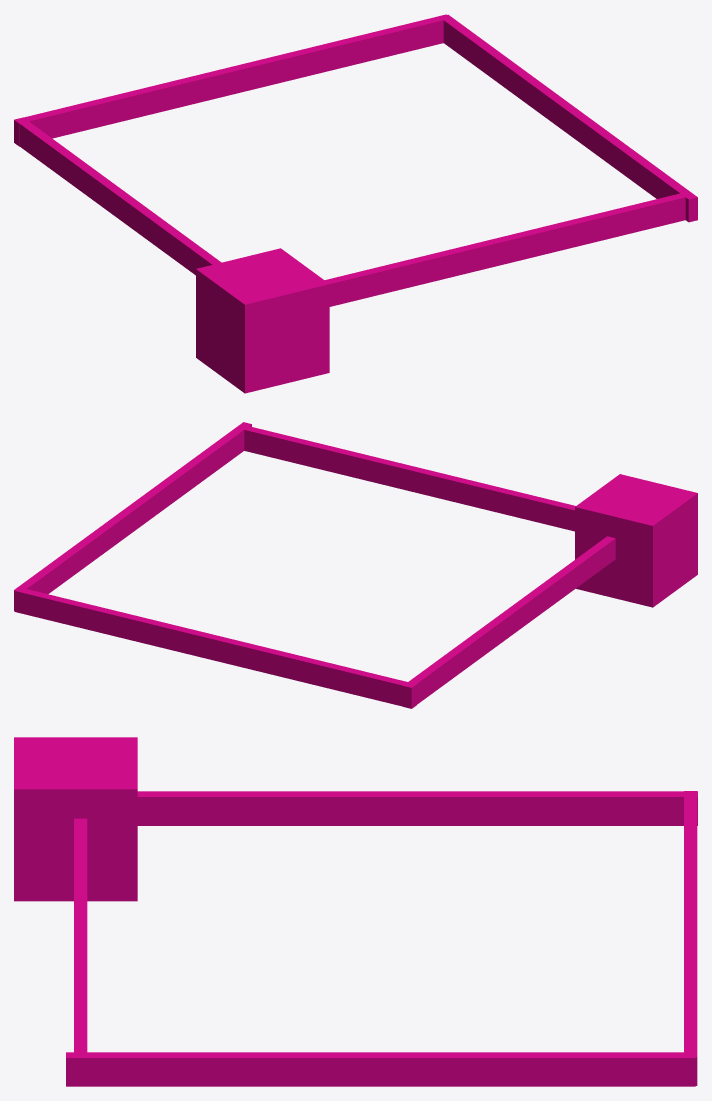
Rendered from boundingbox.fbx.
The picture shows the model from 3 angles, top to bottom: view 1: azimuth 30°, elevation 25°; view 2: azimuth 150°, elevation 25°; view 3: azimuth 270°, elevation 25°; orthographic projection. The views are drawn at different scales.
Visible parts, largest first — view 1: Cube, Cube.001, Cube.002, Cube.004, Cube.003; view 2: Cube, Cube.001, Cube.002, Cube.004, Cube.003; view 3: Cube.004, Cube, Cube.003, Cube.001, Cube.002.
Boxes of the visible parts, x1,y1,x2,y2 form: Cube: (196,248,329,393); Cube.001: (14,14,451,146); Cube.002: (325,193,685,306); Cube.004: (440,14,697,222); Cube.003: (14,117,221,275); Cube: (575,474,697,607); Cube.001: (14,587,416,708); Cube.002: (237,424,575,531); Cube.004: (14,422,251,610); Cube.003: (403,536,615,708); Cube.004: (66,1052,695,1086); Cube: (14,737,137,901); Cube.003: (137,791,697,825); Cube.001: (684,791,697,1085); Cube.002: (74,818,87,1057).
Size of the model in its own units: 558 by 100 by 554.
